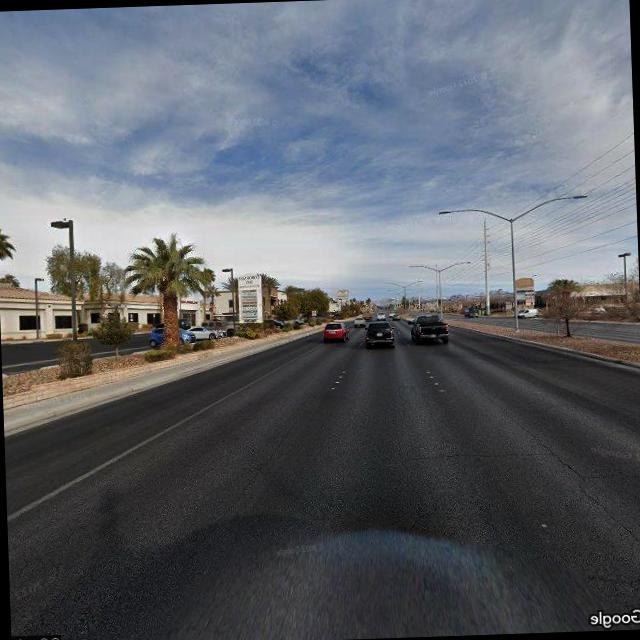crack: (406, 441, 550, 466), (394, 434, 428, 534)
